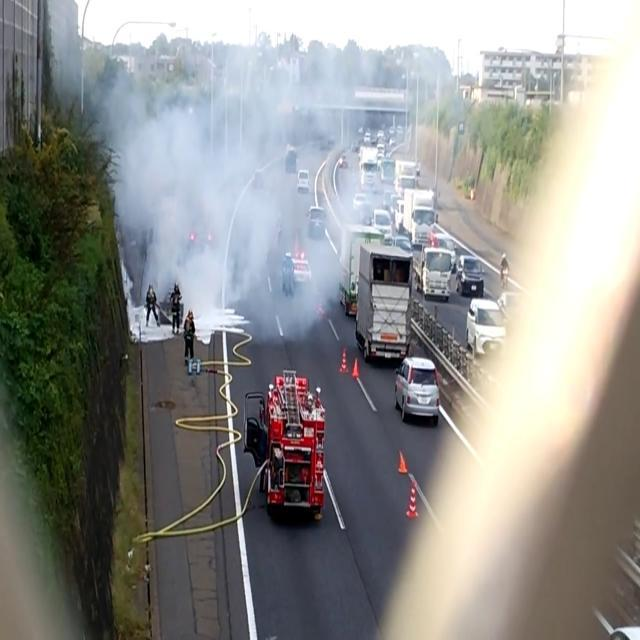Smoke: (70, 1, 368, 318)
